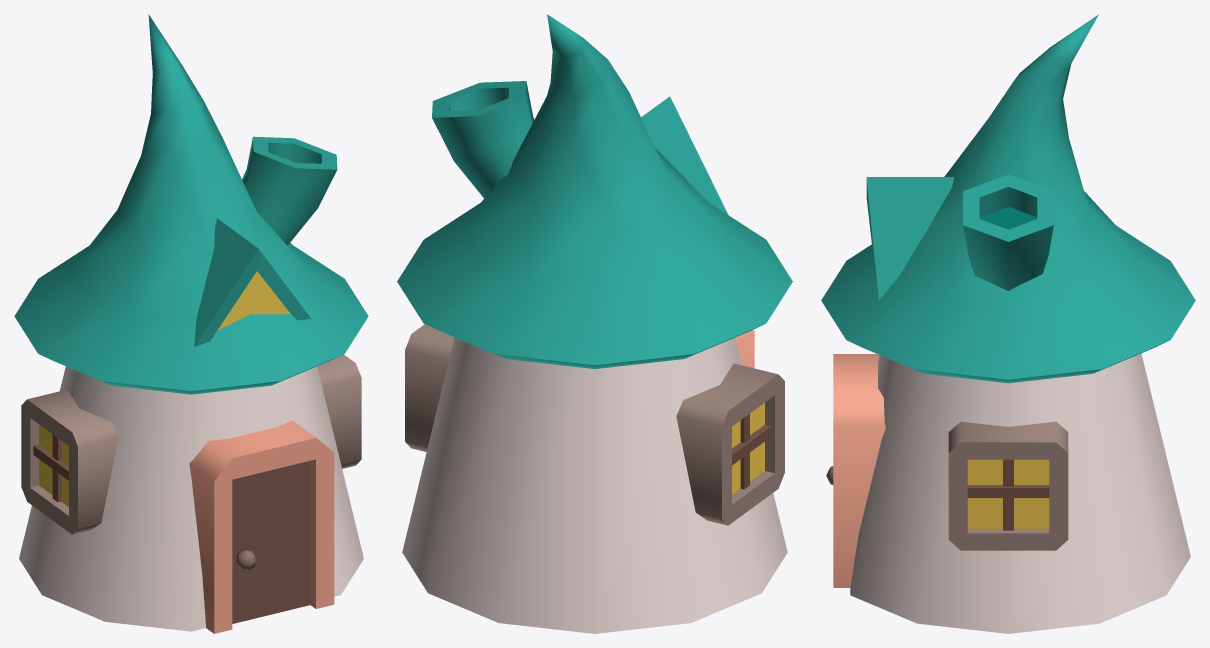
The model's file is house_001.fbx.
The picture shows the model from 3 angles, left to right: view 1: azimuth 30°, elevation 25°; view 2: azimuth 150°, elevation 25°; view 3: azimuth 270°, elevation 25°; orthographic projection. The views are drawn at different scales.
Parts seen in each view (by area): view 1: house_001; view 2: house_001; view 3: house_001.
Boxes of the visible parts, x1,y1,x2,y2 form: house_001: [14, 14, 368, 633]; house_001: [397, 14, 792, 633]; house_001: [821, 14, 1195, 633].
Size of the model in its own units: 323 by 323 by 517.
Materials: 2 (2 with a texture image).
